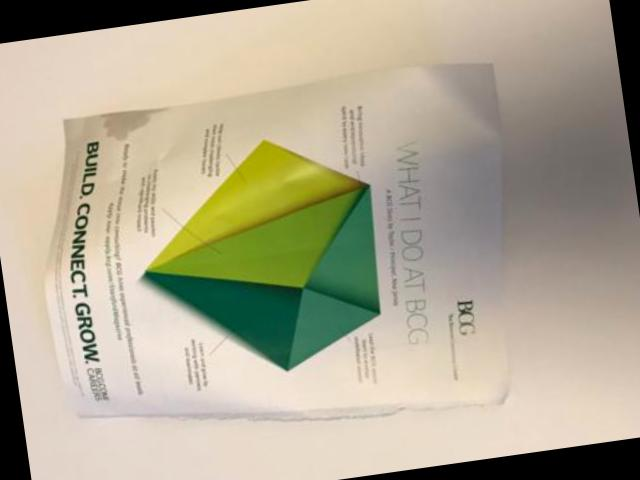cardboard paper: (43, 62, 505, 417)
